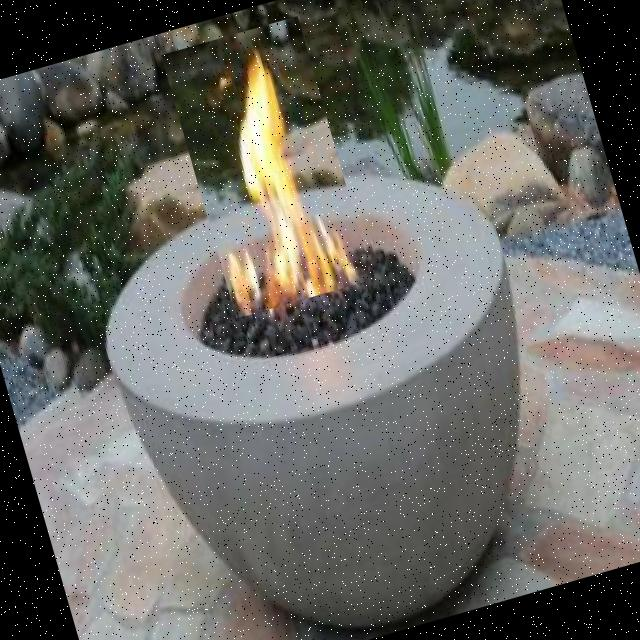fire: (160, 15, 372, 318)
